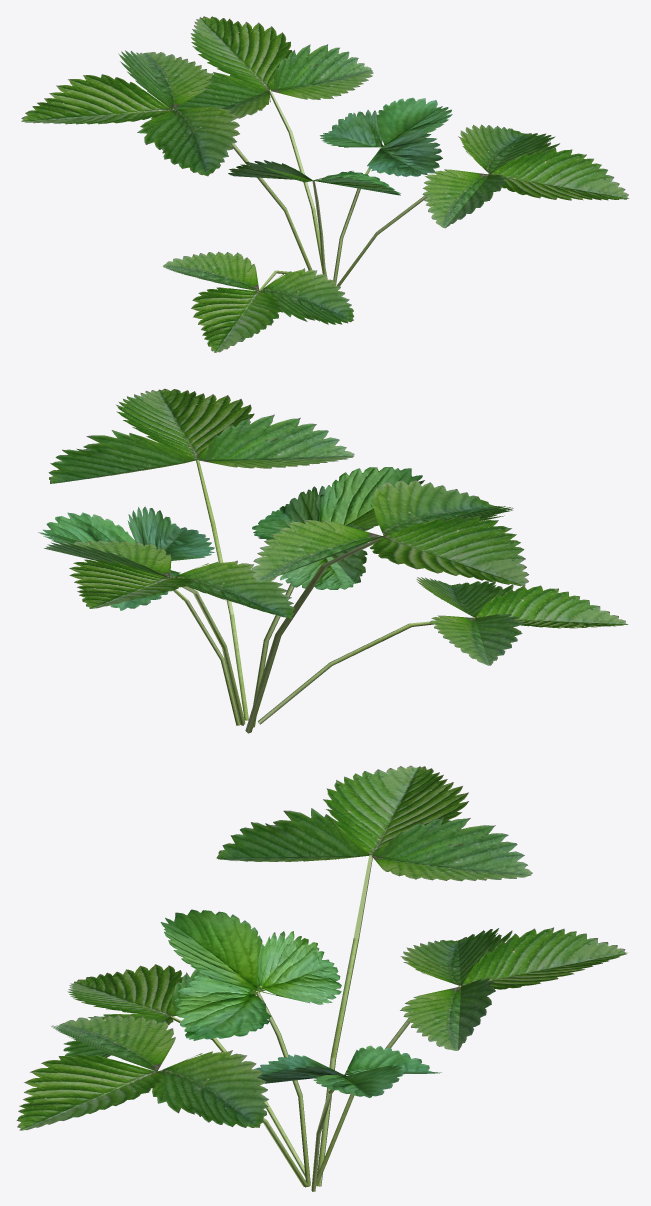
File: Strawberry1.fbx
3 renders of one model, top to bottom at view 1: azimuth 30°, elevation 25°; view 2: azimuth 150°, elevation 25°; view 3: azimuth 270°, elevation 25°, orthographic. The views are drawn at different scales.
Parts seen in each view (by area): view 1: Strawberry1_LOD0; view 2: Strawberry1_LOD0; view 3: Strawberry1_LOD0.
Boxes of the visible parts, left/top/right/bottom form: Strawberry1_LOD0: left=21, top=16, right=628, bottom=352; Strawberry1_LOD0: left=38, top=388, right=628, bottom=733; Strawberry1_LOD0: left=16, top=765, right=627, bottom=1191.
Size of what is drawn, in the model's own units: 67.08 by 33.42 by 62.46.
